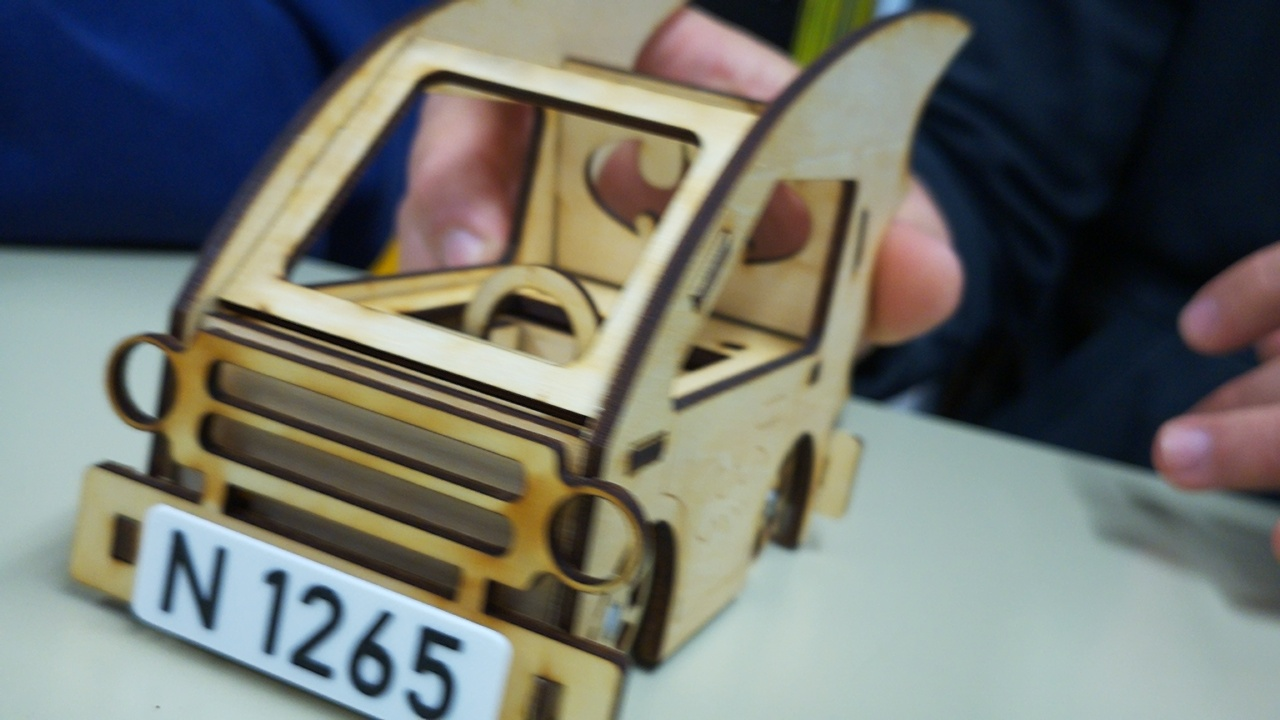license_plate: (128, 499, 520, 720)
